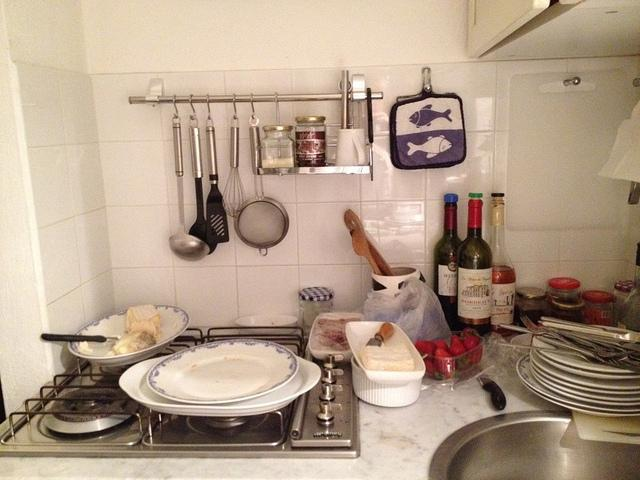strawberry: (463, 330, 481, 352), (449, 334, 466, 357), (414, 340, 437, 355), (469, 344, 484, 364), (435, 346, 452, 358), (424, 358, 435, 374)
